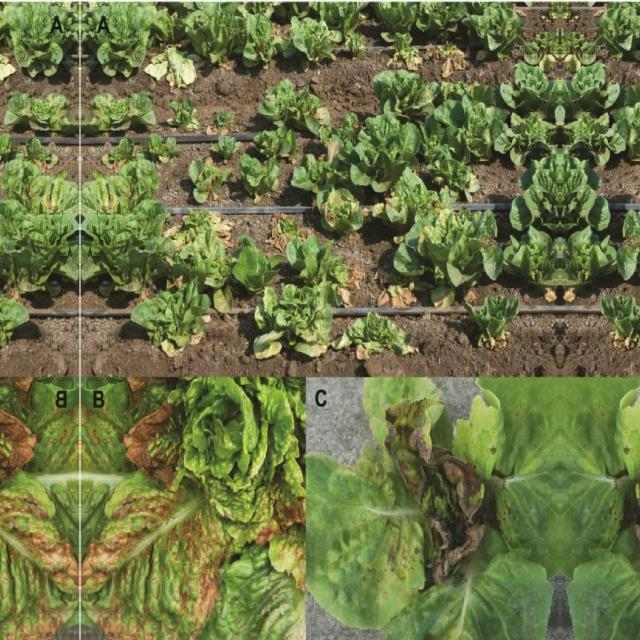healthy: (311, 377, 554, 637), (566, 377, 640, 637), (82, 202, 170, 292), (0, 202, 78, 291), (254, 282, 332, 360), (136, 279, 212, 353), (414, 208, 486, 282), (258, 78, 330, 136), (510, 154, 560, 236), (560, 154, 610, 236), (504, 56, 560, 124), (560, 56, 616, 124), (1, 88, 76, 138), (84, 88, 158, 138), (504, 231, 560, 291), (560, 231, 616, 291), (502, 110, 558, 168), (562, 110, 618, 168), (318, 186, 362, 234), (237, 150, 277, 196), (190, 156, 228, 204), (0, 279, 23, 353), (250, 124, 294, 162), (166, 99, 204, 129), (215, 132, 238, 160), (633, 208, 640, 282), (216, 106, 236, 125)
